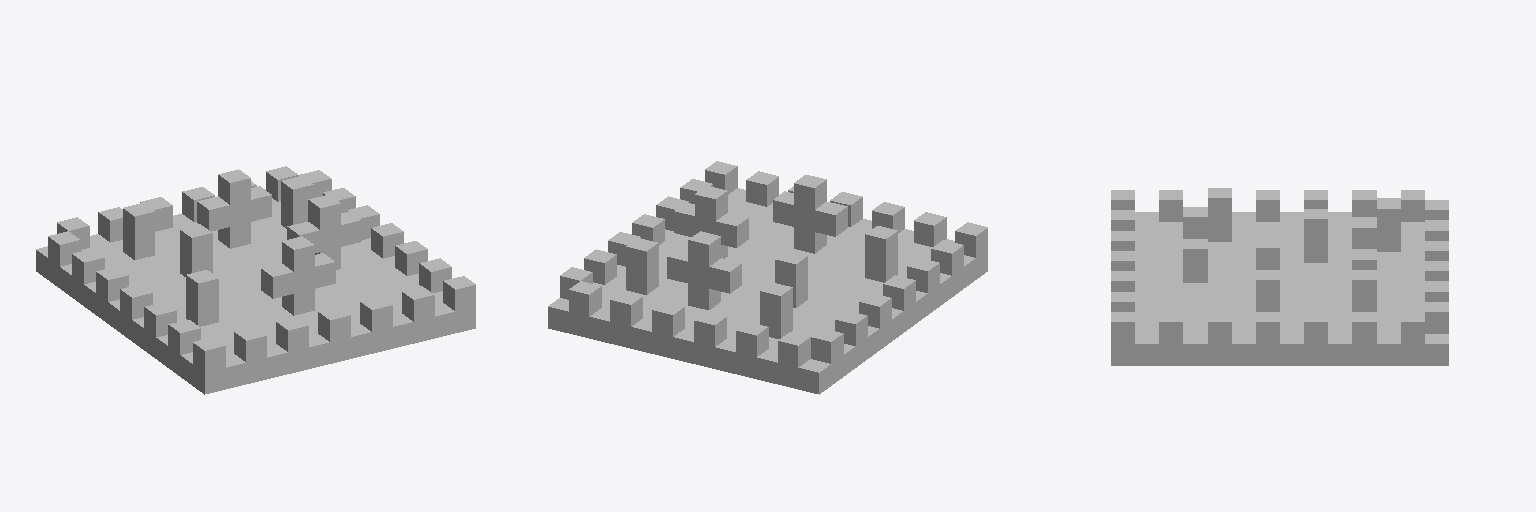
Rendered from civ_graveyard.obj.
3 views of the same model, side by side, from view 1: azimuth 30°, elevation 25°; view 2: azimuth 150°, elevation 25°; view 3: azimuth 270°, elevation 25° (orthographic).
Visible parts, largest first — view 1: model.004; view 2: model.004; view 3: model.004.
Boxes of the visible parts, box(x1,y1,x2,y2) form: model.004: box(36, 166, 475, 394); model.004: box(548, 161, 987, 394); model.004: box(1111, 188, 1448, 365).
Bounding box in the file's own units: 0.8125 × 0.25 × 0.875.